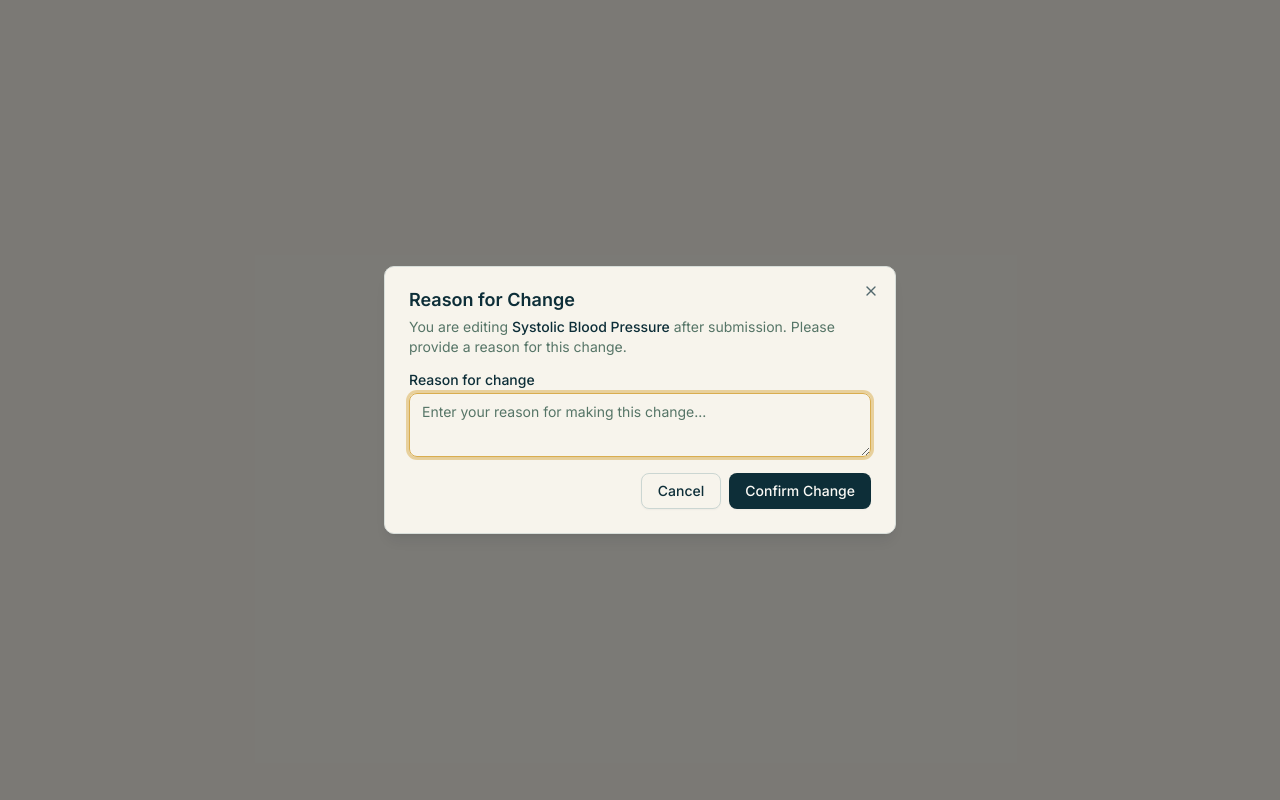
Test: ReasonForChangeDialog › shows an error when confirming with an empty reason
Click the button "Confirm Change": (800, 491) [729,473,871,509]
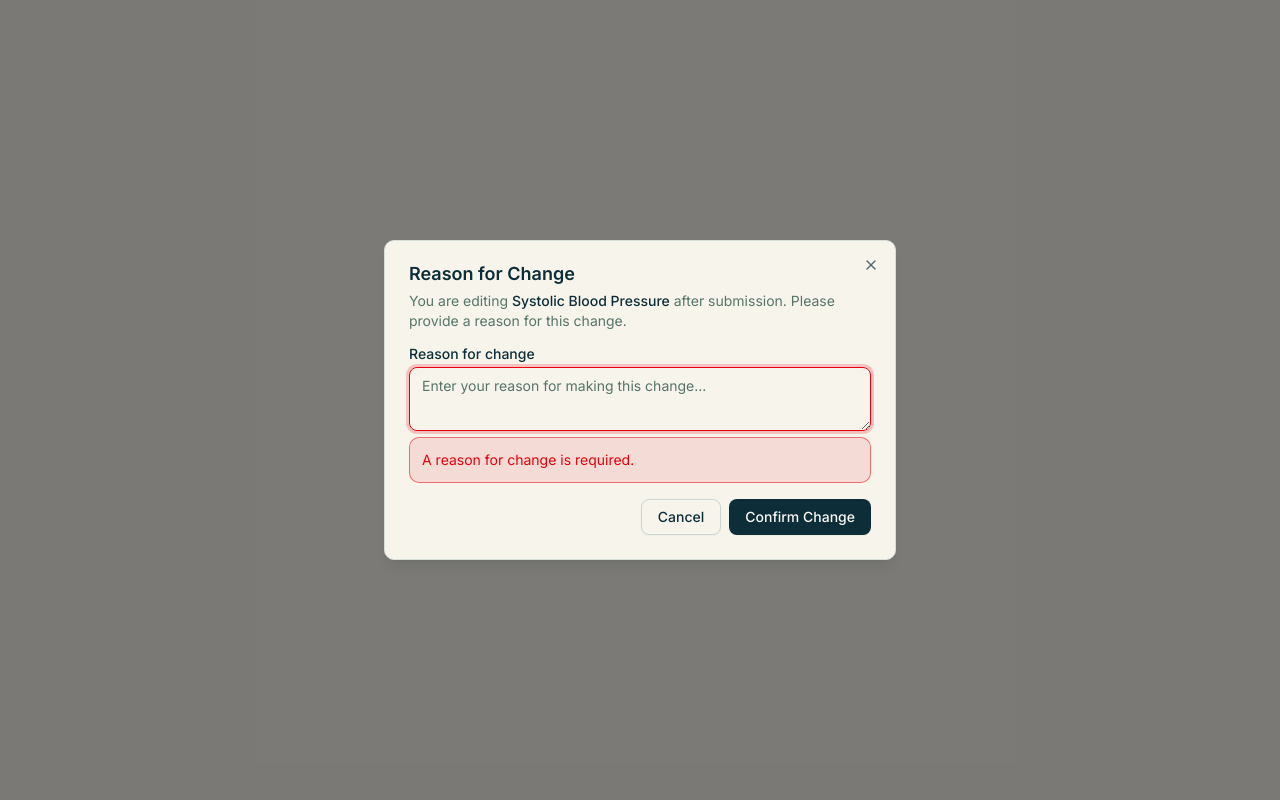
Expected: the message reads "A reason for change is required.", [422,451,634,468]
